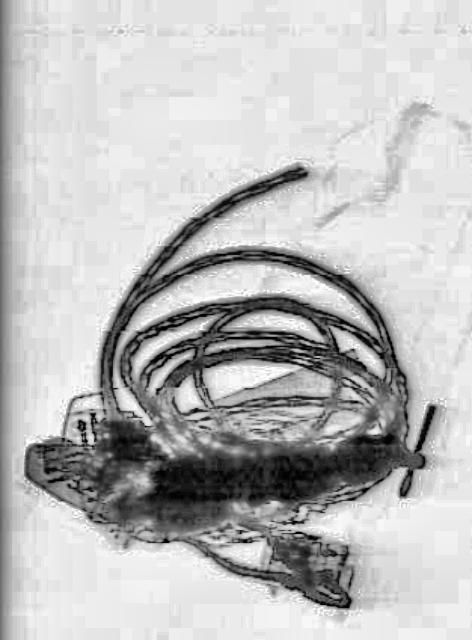Pliers: (180, 488, 360, 630)
